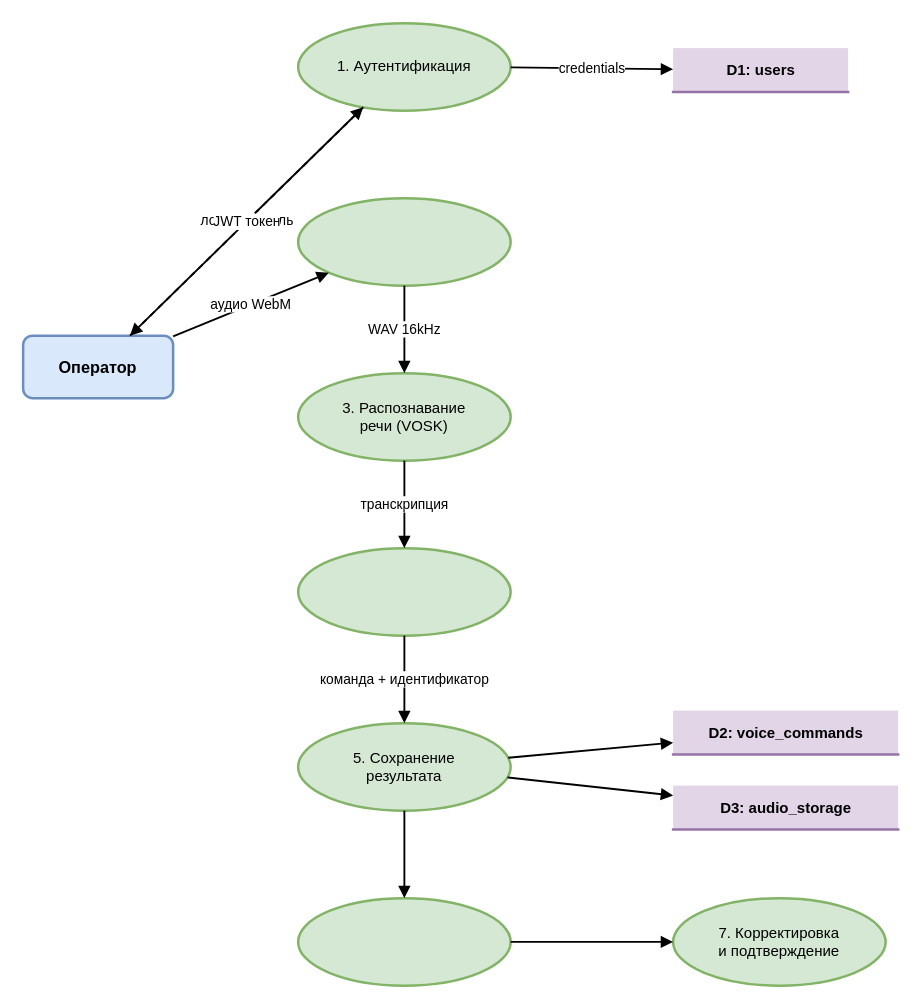
This 920x1008 diagram has some shape labels left out. Here are the shapes that lost their labels. From the top down, the box of each, then its label:
(296, 196, 511, 286): 2. Конвертация аудио (ffmpeg)
(296, 546, 511, 636): 4. Парсинг команды
(296, 896, 511, 986): 6. Отображение результата
